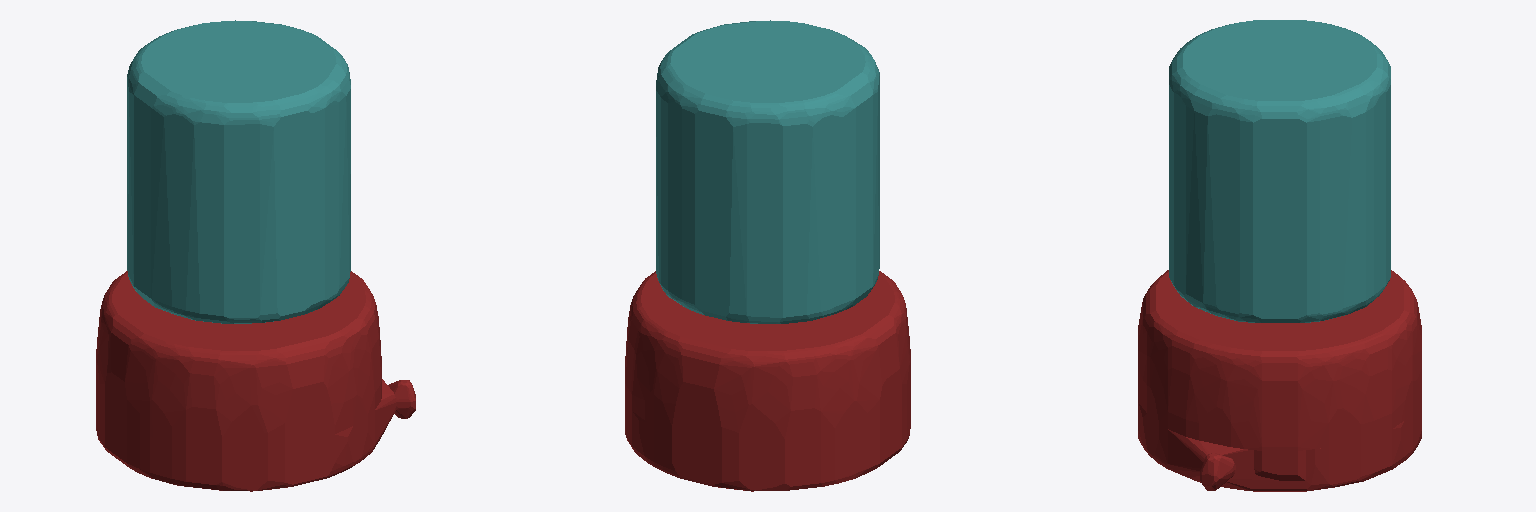
robot.urdf — root:
<robot name="root">
  <link name="bottle_body">
    <inertial>
      <origin xyz="0 0 0" rpy="0 0 0"/>
    </inertial>
    <mass value="1.00E-02"/>
    <visual>
      <origin xyz="0 0 0" rpy="0 0 0"/>
      <geometry>
        <mesh filename="core-bottle-10dff3c43200a7a7119862dbccbaa609-coacd_convex_piece_4.obj" scale="1.0000E-01 1.0000E-01 1.0000E-01"/>
      </geometry>
      <material name="">
        <color rgba="6.00E-01 2.00E-01 2.00E-01 1"/>
      </material>
    </visual>
    <collision>
      <origin xyz="0 0 0" rpy="0 0 0"/>
      <geometry>
        <mesh filename="core-bottle-10dff3c43200a7a7119862dbccbaa609-coacd_convex_piece_4.obj" scale="1.0000E-01 1.0000E-01 1.0000E-01"/>
      </geometry>
    </collision>
    <visual>
      <origin xyz="0 0 0" rpy="0 0 0"/>
      <geometry>
        <mesh filename="core-bottle-10dff3c43200a7a7119862dbccbaa609-coacd_convex_piece_3.obj" scale="1.0000E-01 1.0000E-01 1.0000E-01"/>
      </geometry>
      <material name="">
        <color rgba="6.00E-01 2.00E-01 2.00E-01 1"/>
      </material>
    </visual>
    <collision>
      <origin xyz="0 0 0" rpy="0 0 0"/>
      <geometry>
        <mesh filename="core-bottle-10dff3c43200a7a7119862dbccbaa609-coacd_convex_piece_3.obj" scale="1.0000E-01 1.0000E-01 1.0000E-01"/>
      </geometry>
    </collision>
    <visual>
      <origin xyz="0 0 0" rpy="0 0 0"/>
      <geometry>
        <mesh filename="core-bottle-10dff3c43200a7a7119862dbccbaa609-coacd_convex_piece_1.obj" scale="1.0000E-01 1.0000E-01 1.0000E-01"/>
      </geometry>
      <material name="">
        <color rgba="6.00E-01 2.00E-01 2.00E-01 1"/>
      </material>
    </visual>
    <collision>
      <origin xyz="0 0 0" rpy="0 0 0"/>
      <geometry>
        <mesh filename="core-bottle-10dff3c43200a7a7119862dbccbaa609-coacd_convex_piece_1.obj" scale="1.0000E-01 1.0000E-01 1.0000E-01"/>
      </geometry>
    </collision>
    <visual>
      <origin xyz="0 0 0" rpy="0 0 0"/>
      <geometry>
        <mesh filename="core-bottle-10dff3c43200a7a7119862dbccbaa609-coacd_convex_piece_2.obj" scale="1.0000E-01 1.0000E-01 1.0000E-01"/>
      </geometry>
      <material name="">
        <color rgba="6.00E-01 2.00E-01 2.00E-01 1"/>
      </material>
    </visual>
    <collision>
      <origin xyz="0 0 0" rpy="0 0 0"/>
      <geometry>
        <mesh filename="core-bottle-10dff3c43200a7a7119862dbccbaa609-coacd_convex_piece_2.obj" scale="1.0000E-01 1.0000E-01 1.0000E-01"/>
      </geometry>
    </collision>
  </link>
  <link name="bottle_cap">
    <origin xyz="0 0 0.002" rpy="0 0 0"/>
    <mass value="1.00E-02"/>
    <visual>
      <origin xyz="0 0 0.002" rpy="0 0 0"/>
      <geometry>
        <mesh filename="core-bottle-10dff3c43200a7a7119862dbccbaa609-coacd_convex_piece_0.obj" scale="1.0000E-01 1.0000E-01 1.0000E-01"/>
      </geometry>
      <material name="">
        <color rgba="3.00E-01 6.00E-01 6.00E-01 1"/>
      </material>
    </visual>
    <collision>
      <origin xyz="0 0 0.002" rpy="0 0 0"/>
      <geometry>
        <mesh filename="core-bottle-10dff3c43200a7a7119862dbccbaa609-coacd_convex_piece_0.obj" scale="1.0000E-01 1.0000E-01 1.0000E-01"/>
      </geometry>
    </collision>
  </link>
  <joint name="bottle_cap_joint" type="revolute">
    <origin xyz="0 0 0" rpy="0 0 0"/>
    <parent link="bottle_body"/>
    <child link="bottle_cap"/>
    <axis xyz="0 0 1"/>
    <limit lower="0.00" upper="6.28"/>
    <dynamics damping="0.05"/>
  </joint>
</robot>

--- Render facts (derived) ---
Views: 3 orthographic renders of the robot side by side, from view 1: azimuth 30°, elevation 25°; view 2: azimuth 150°, elevation 25°; view 3: azimuth 270°, elevation 25°.
Robot: root — 2 links, 1 joints (1 revolute); root link bottle_body; default pose: all joints at 0.
Visible links, largest first — view 1: bottle_cap, bottle_body; view 2: bottle_cap, bottle_body; view 3: bottle_cap, bottle_body.
Boxes of the visible links, left/top/right/bottom form: bottle_cap: left=127, top=20, right=350, bottom=323; bottle_body: left=96, top=271, right=415, bottom=491; bottle_cap: left=656, top=20, right=879, bottom=323; bottle_body: left=625, top=271, right=910, bottom=491; bottle_cap: left=1169, top=20, right=1390, bottom=322; bottle_body: left=1138, top=270, right=1421, bottom=491.
Size in the robot's own frame: 0.1197 by 0.1095 by 0.1593 metres.
5 mesh visuals loaded from 5 distinct referenced files (5 OBJ).